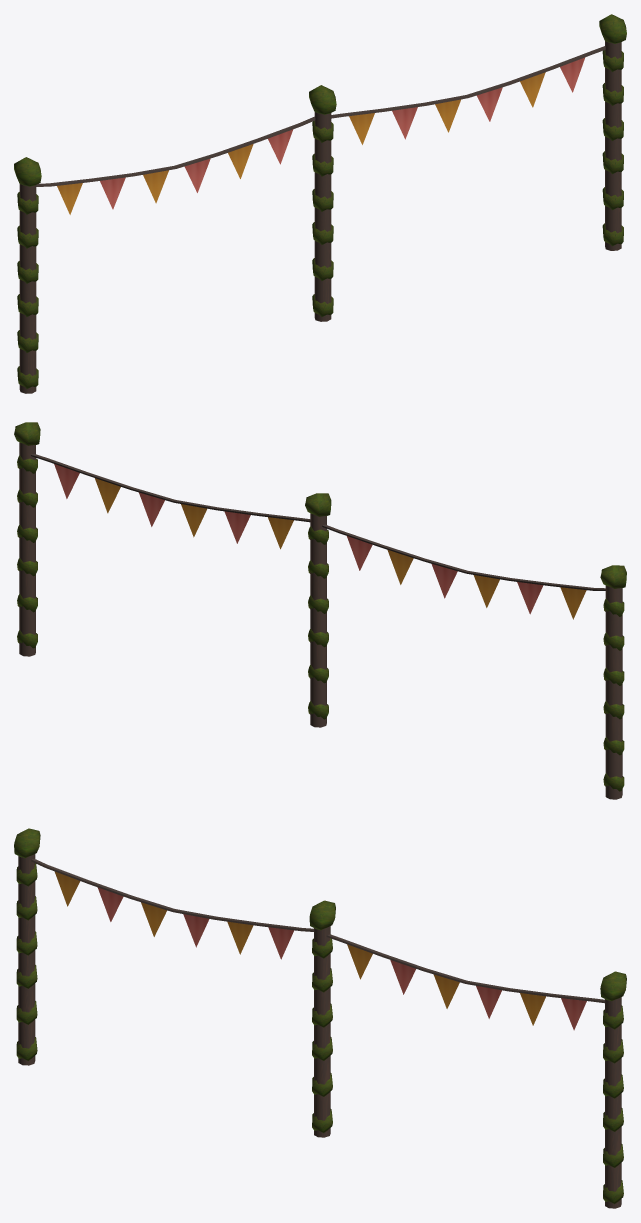
Rendered from Fair_Flags_Line.glb.
3 views of the same model, one above another, from view 1: azimuth 30°, elevation 25°; view 2: azimuth 150°, elevation 25°; view 3: azimuth 330°, elevation 25° (orthographic).
Visible parts, largest first — view 1: Fair_Flags_Line; view 2: Fair_Flags_Line; view 3: Fair_Flags_Line.
Part boxes in pixels (x1,y1,x2,y2): Fair_Flags_Line: (14, 14, 626, 393); Fair_Flags_Line: (14, 422, 626, 799); Fair_Flags_Line: (14, 828, 626, 1208).
Size of what is drawn, in the model's own units: 19.63 by 7.13 by 0.792.
Materials: 3 (3 with a texture image).
